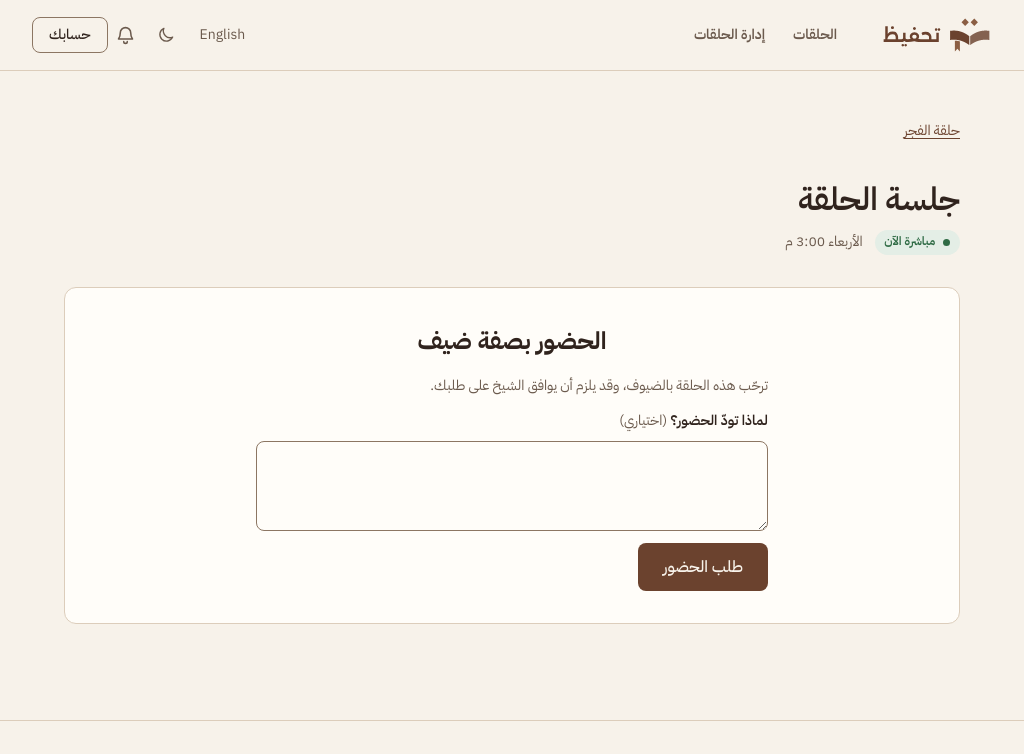
Test: session room — student › lets a visitor ask to attend as a guest, then shows the pending state
The width and height of the screenshot is (1024, 754).
Step 1. Type "زيارة" into the text box labelled "لماذا تودّ الحضور؟ (اختياري)" → (512, 486), box [257,442,767,530]
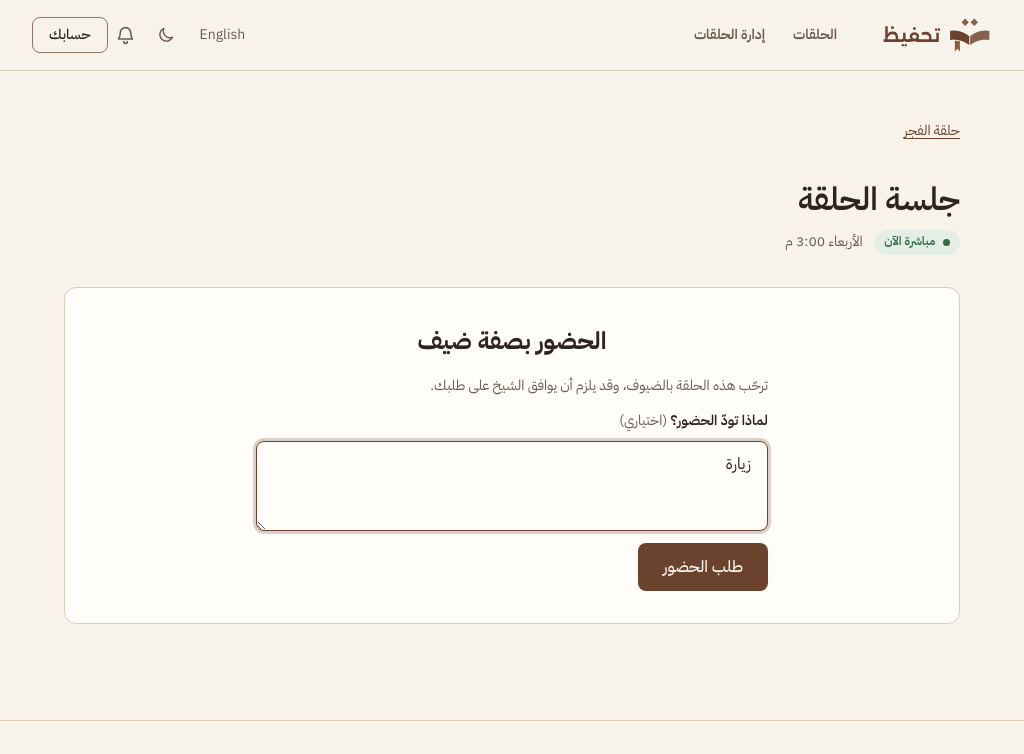
Step 2. Click the button "طلب الحضور" → click(703, 567), box [638,543,768,591]
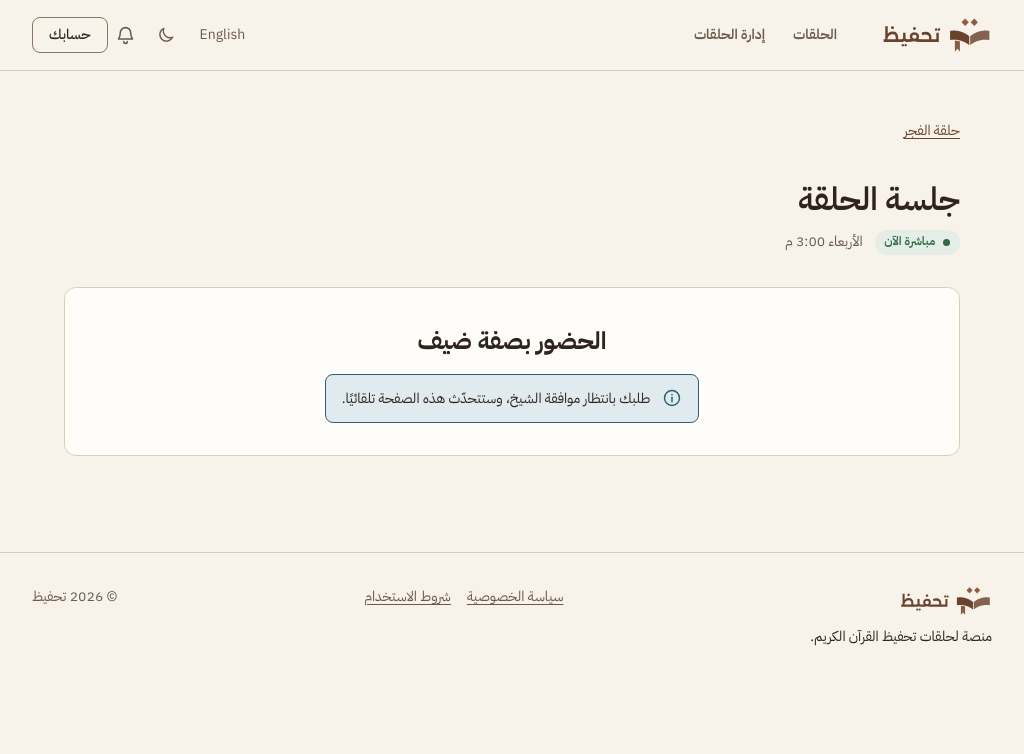
Now the text "طلبك بانتظار موافقة الشيخ، وستتحدّث هذه الصفحة تلقائيًا." is shown, box [342,387,650,410]
